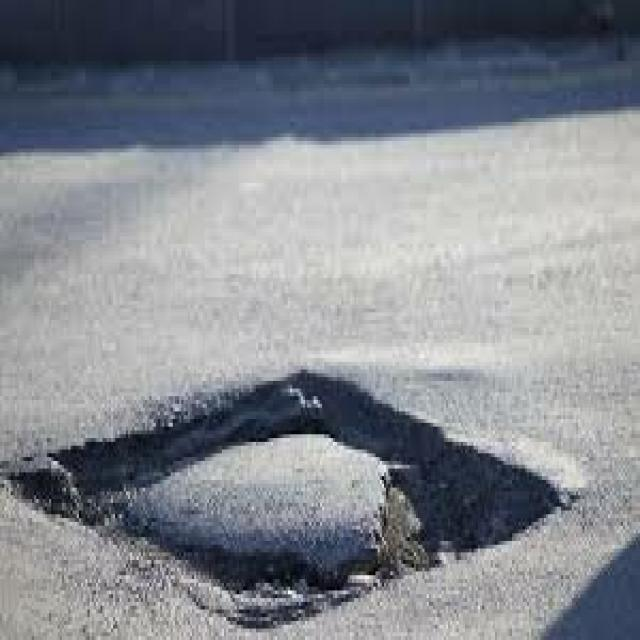Pothole: (2, 328, 617, 617)
